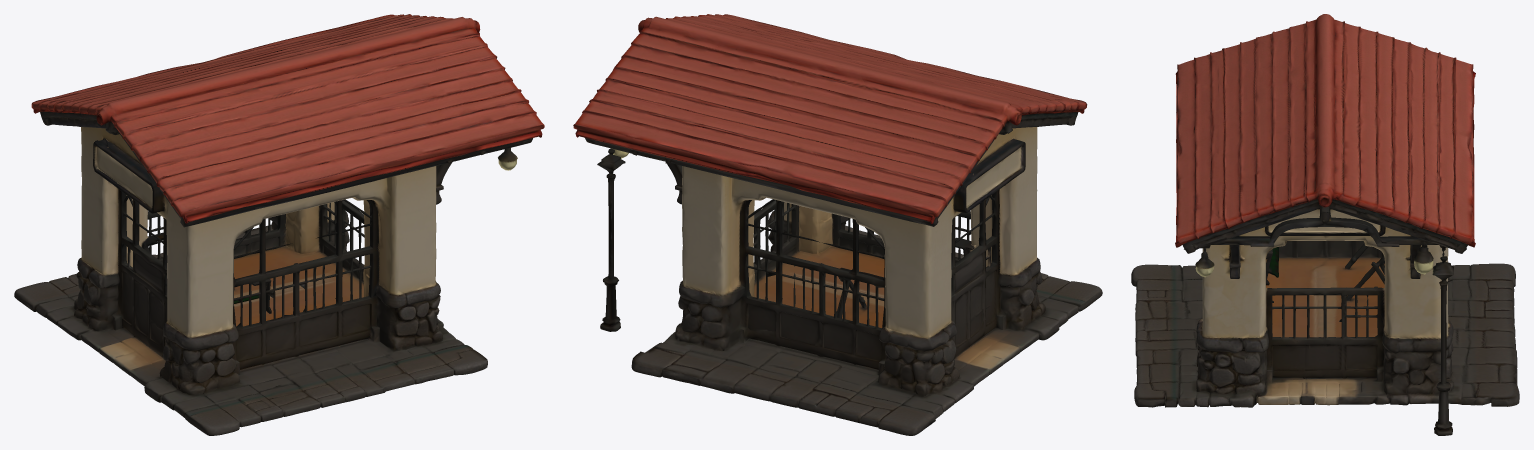
Rendered from volcanic-station-canopy.glb.
3 renders of one model, left to right at view 1: azimuth 30°, elevation 25°; view 2: azimuth 150°, elevation 25°; view 3: azimuth 270°, elevation 25°, orthographic.
Parts seen in each view (by area): view 1: tripo_node_41d00d87-aff5-40b8-9d4e-7106cbc9679d; view 2: tripo_node_41d00d87-aff5-40b8-9d4e-7106cbc9679d; view 3: tripo_node_41d00d87-aff5-40b8-9d4e-7106cbc9679d.
Part boxes in pixels (<box>): tripo_node_41d00d87-aff5-40b8-9d4e-7106cbc9679d: <box>14,14,544,435</box>; tripo_node_41d00d87-aff5-40b8-9d4e-7106cbc9679d: <box>573,14,1102,435</box>; tripo_node_41d00d87-aff5-40b8-9d4e-7106cbc9679d: <box>1131,14,1519,435</box>.
Bounding box in the file's own units: 3.75 × 2.5 × 3.4.
1 material, 1 textured.
